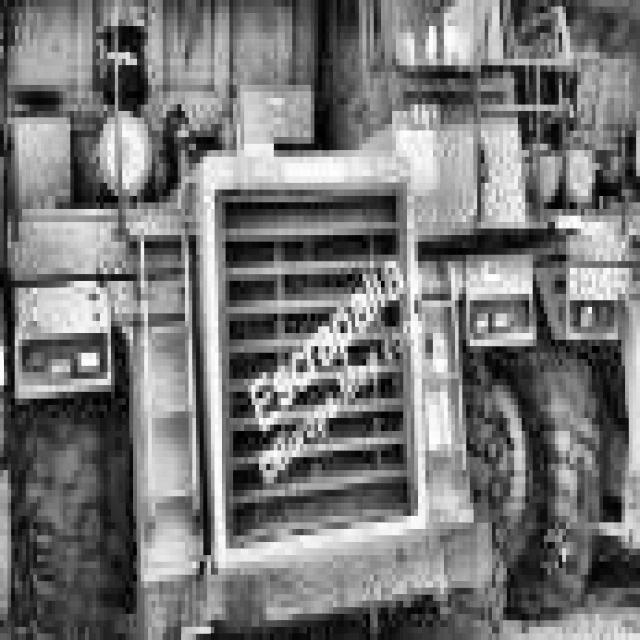dump_truck: (0, 0, 536, 640), (532, 0, 640, 601)
